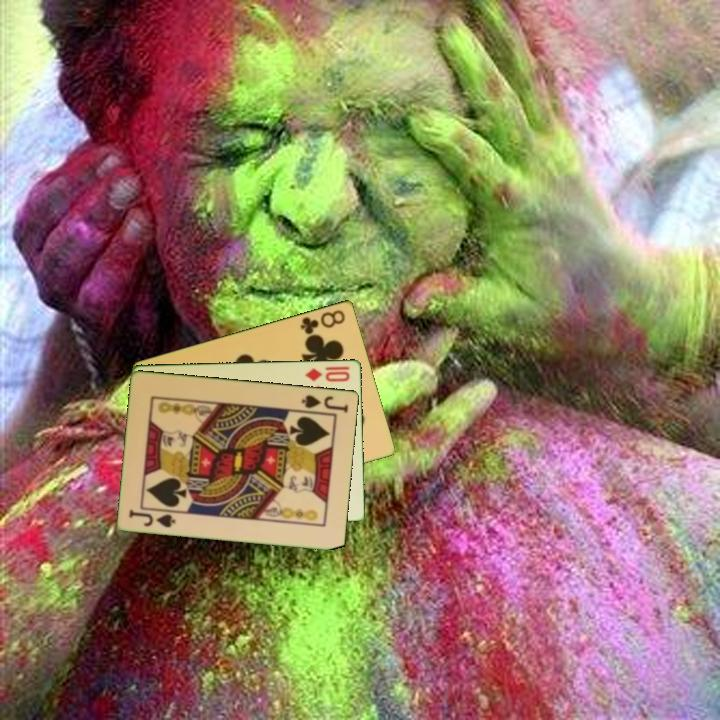10d: (302, 362, 353, 384)
8c: (297, 306, 348, 337)
Js: (298, 391, 352, 415), (126, 506, 179, 530)
